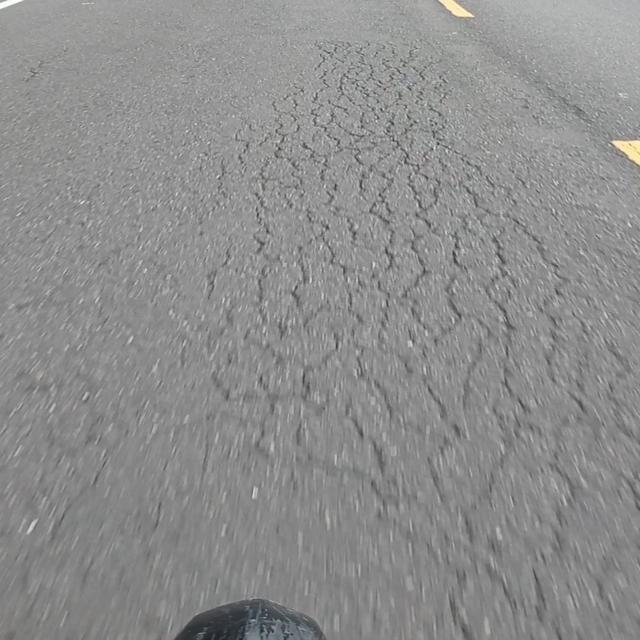Retak Buaya: (225, 42, 557, 563)
